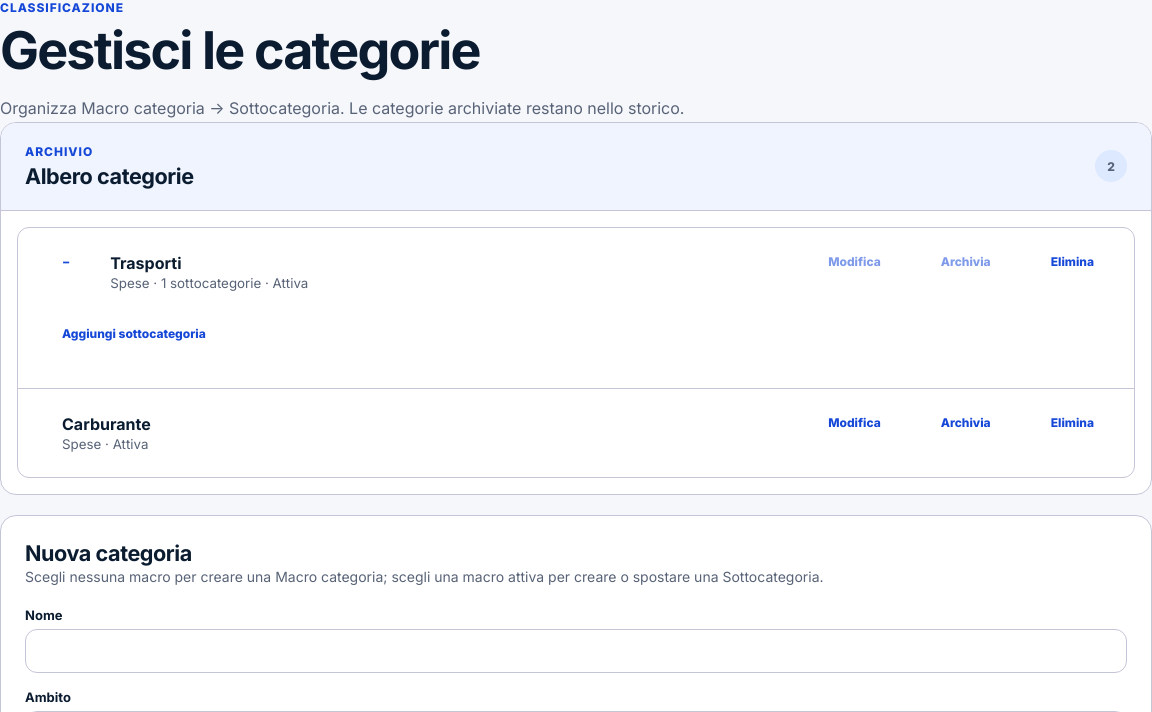
Scenario: CategoriesPage › renders an accessible macro/subcategory tree and opens the child creation path
The width and height of the screenshot is (1152, 712).
Expected: the element named "Categorie finanziarie" is shown, top-left (1, 210), bottom-right (1151, 494)
Expected: the text "Carburante" is shown, top-left (62, 414), bottom-right (151, 434)
What coordinates should you click on to do the following:
click the button "Aggiungi sottocategoria"
I would click on:
 (134, 334)
Its box is top-left (54, 312), bottom-right (214, 356).
(page scrolled)
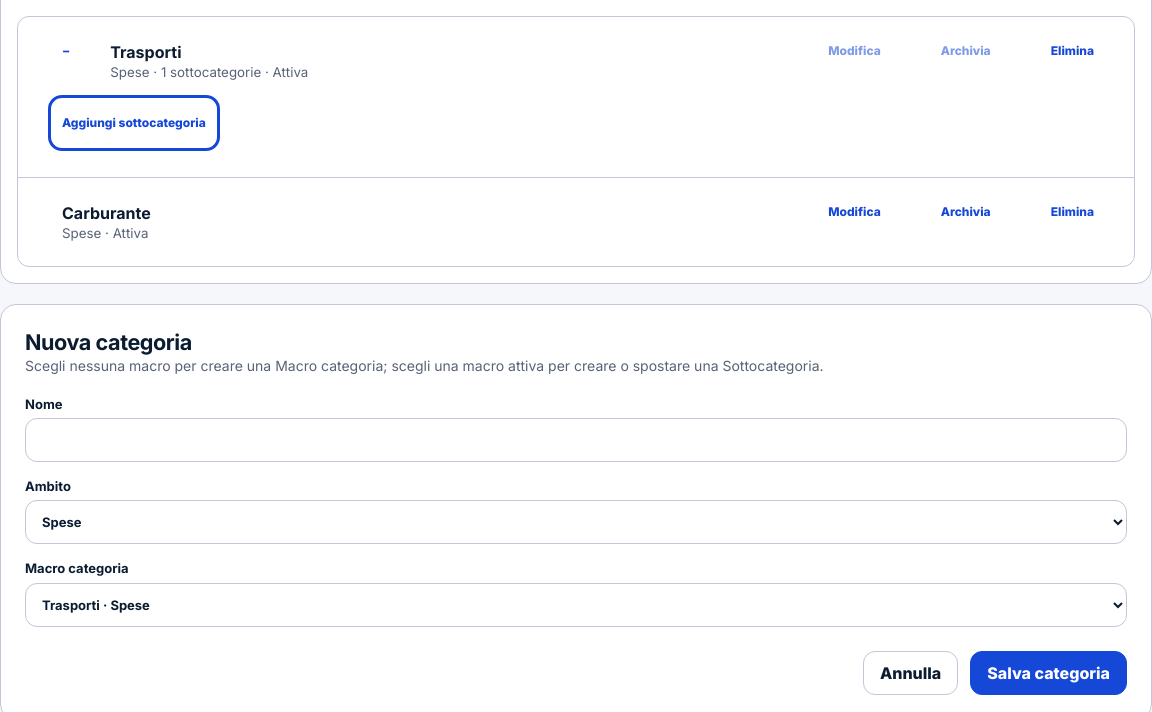
Now the dropdown labelled "Macro categoria" shows "Trasporti · Spese", box top-left (25, 583), bottom-right (1127, 627)
